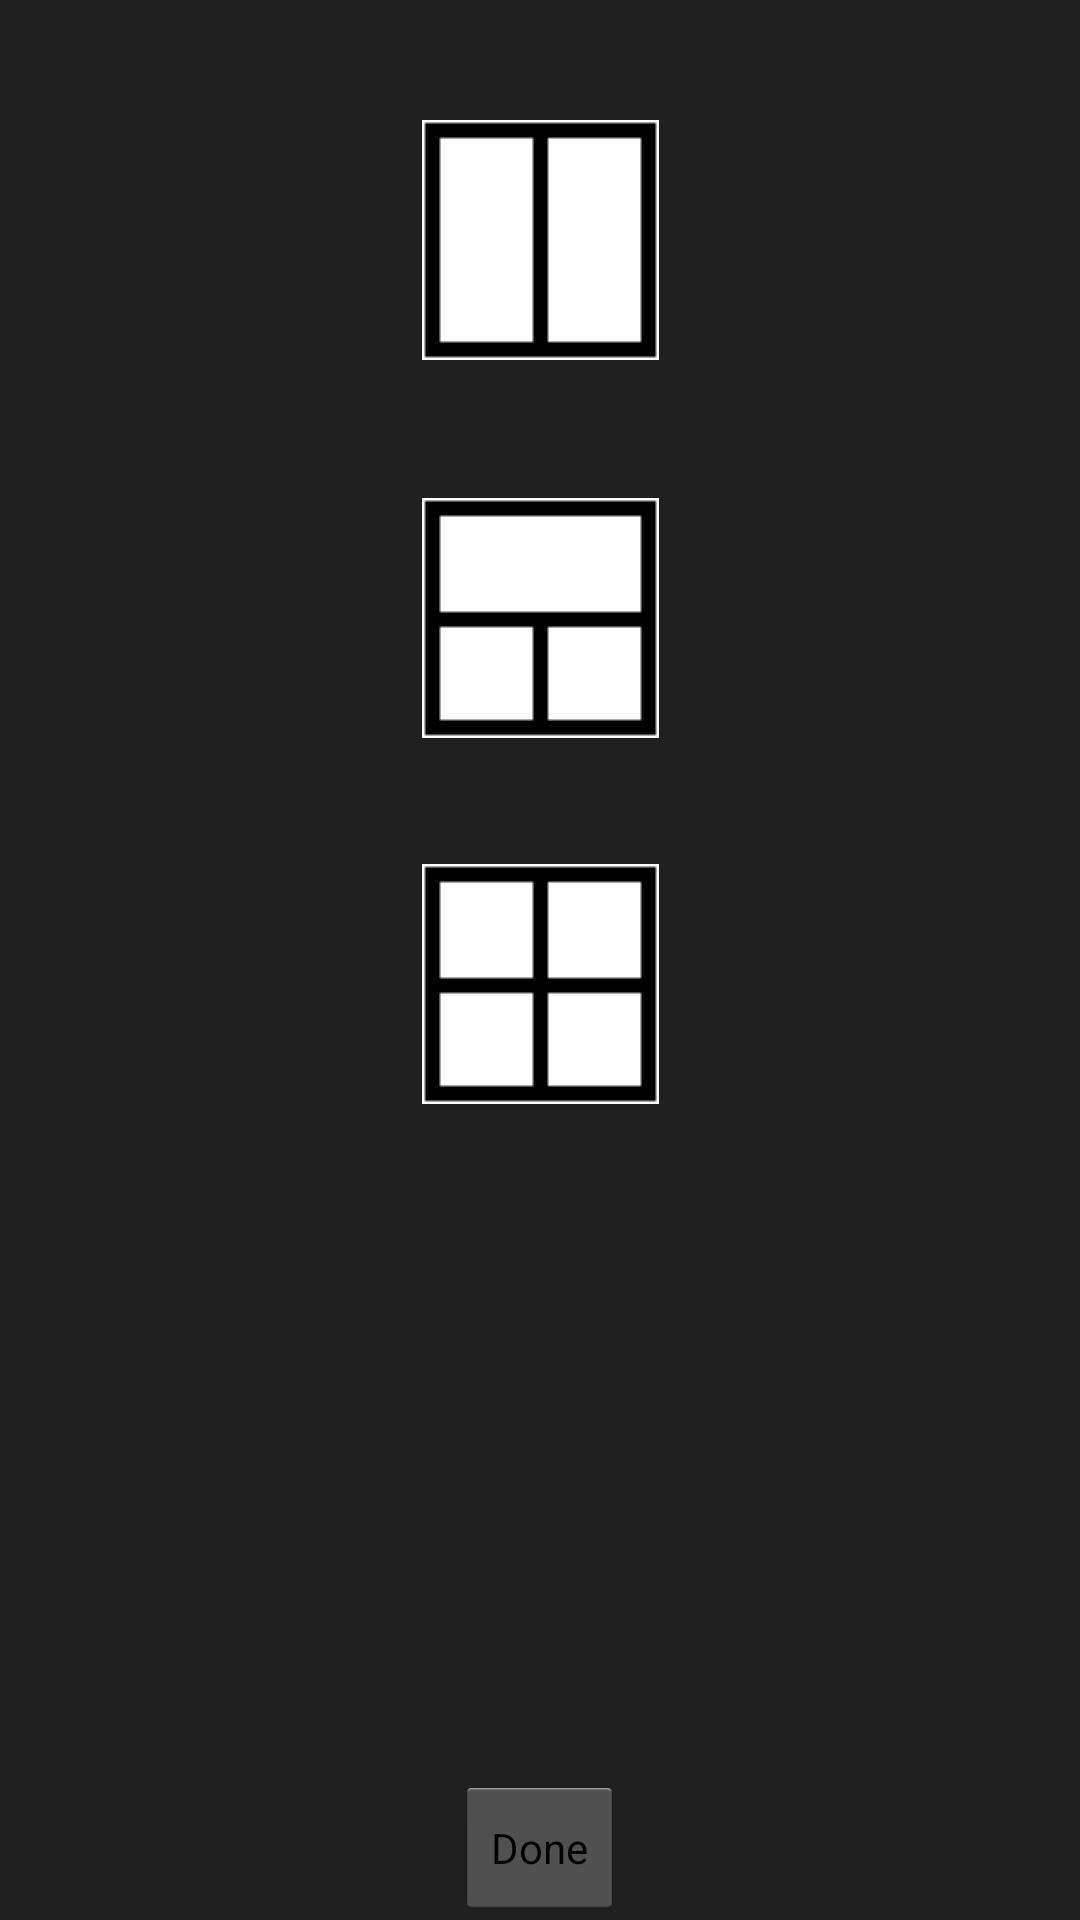

Icon bounding boxes for this 1080w x 1920h phone screenshot, format bbox(x1, y1, x2, y2):
layout: bbox(422, 120, 659, 360), bbox(422, 498, 659, 738), bbox(422, 864, 659, 1104)
